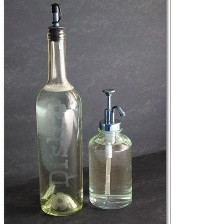bottle: (30, 26, 87, 220), (85, 119, 136, 213)
